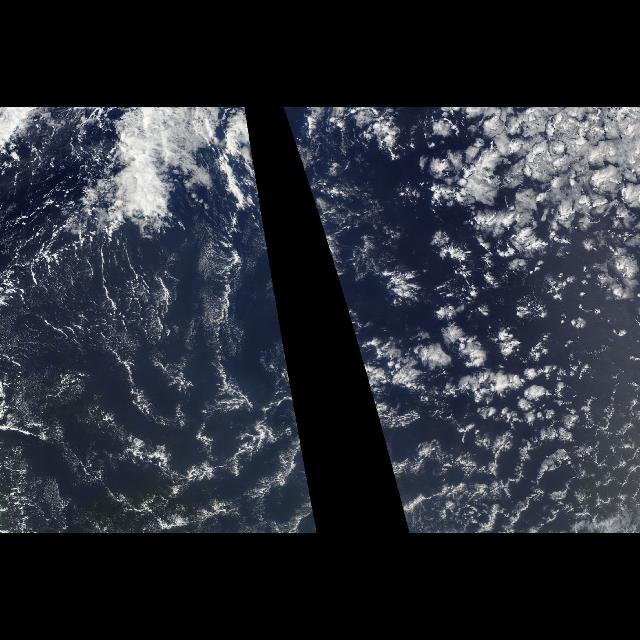Gravel: (80, 355, 316, 529), (380, 396, 636, 530)
